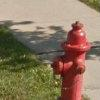Hydrant: (42, 12, 90, 100)
